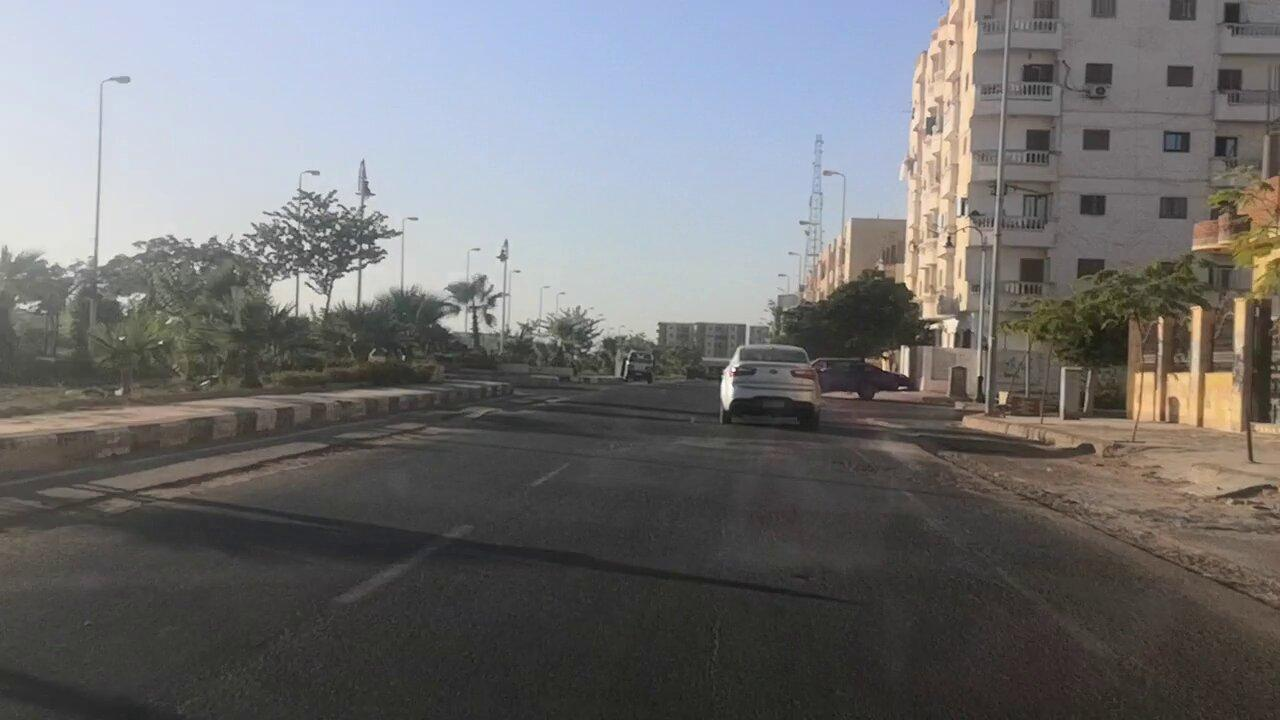Bump: (437, 406, 916, 446)
